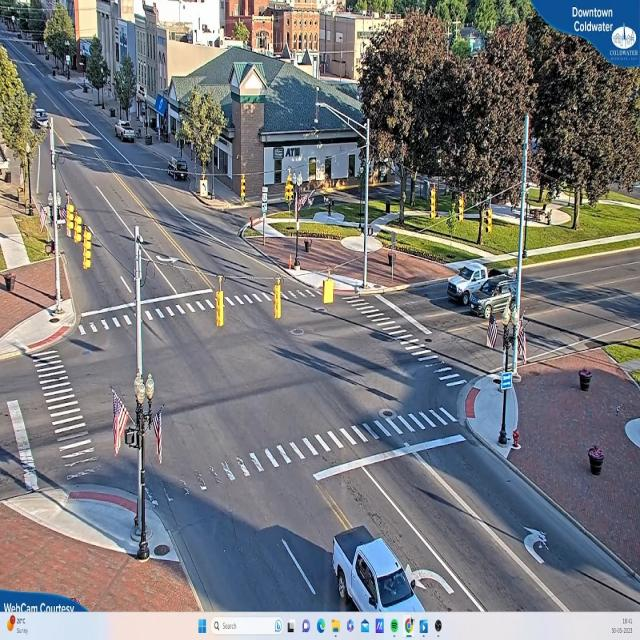car: (331, 528, 420, 612), (446, 266, 492, 306), (117, 122, 137, 145)
